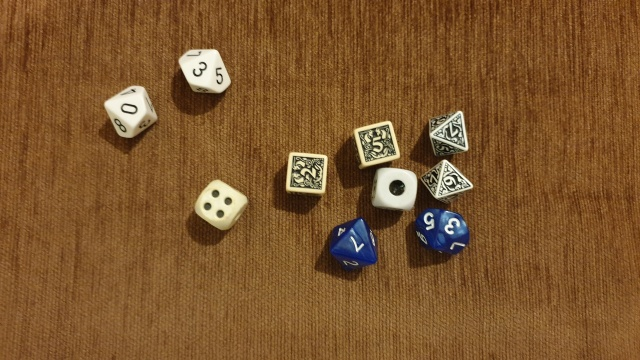d10-10: (94, 77, 162, 144)
d10-3: (175, 45, 238, 103), (413, 207, 475, 260)
d10-7: (323, 214, 383, 276)
d6-1: (367, 163, 418, 215)
d6-4: (189, 176, 253, 232)
d6p-2: (278, 146, 334, 199)
d6p-5: (348, 121, 405, 170)
d8p-6: (417, 158, 484, 207)
d8p-7: (425, 105, 471, 158)
